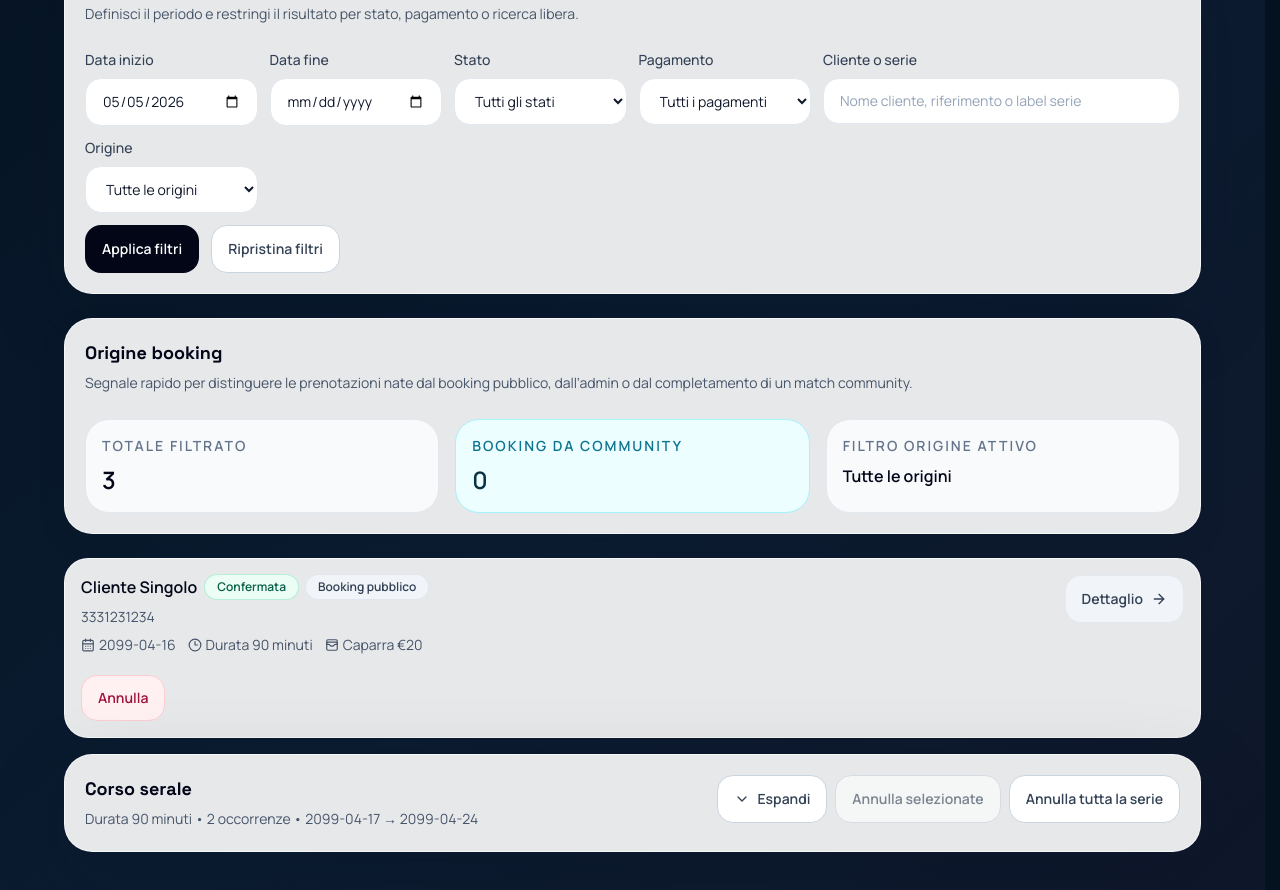
Test: AdminBookingsPage › cancels the full recurring series from the grouped actions
(page scrolled)
Click the button "Annulla tutta la serie". click: (1094, 799)
box: x1=1009 y1=775 x2=1180 y2=823
(page scrolled)
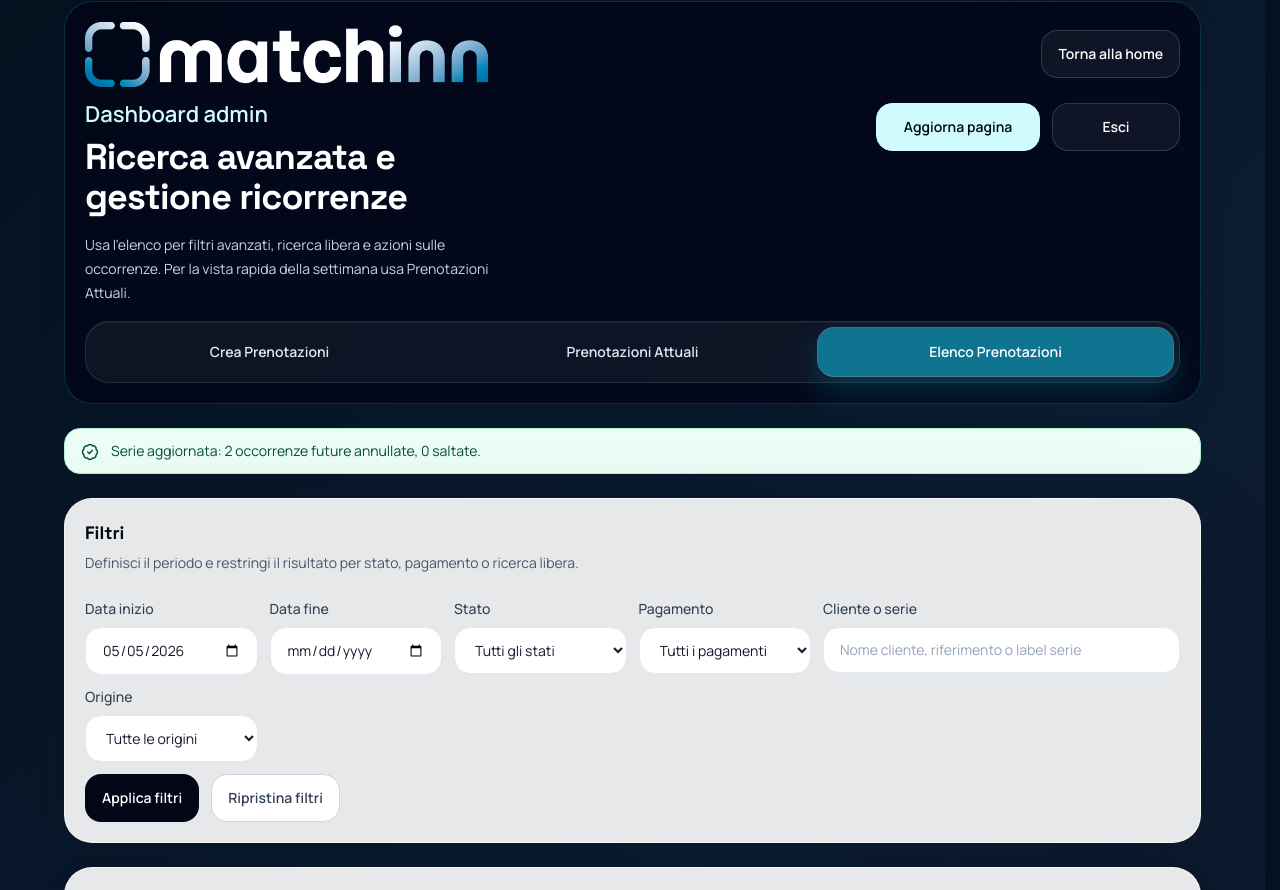
Expected: the text "Serie aggiornata: 2 occorrenze future annullate, 0 saltate." is shown, x1=111 y1=441 x2=481 y2=461
